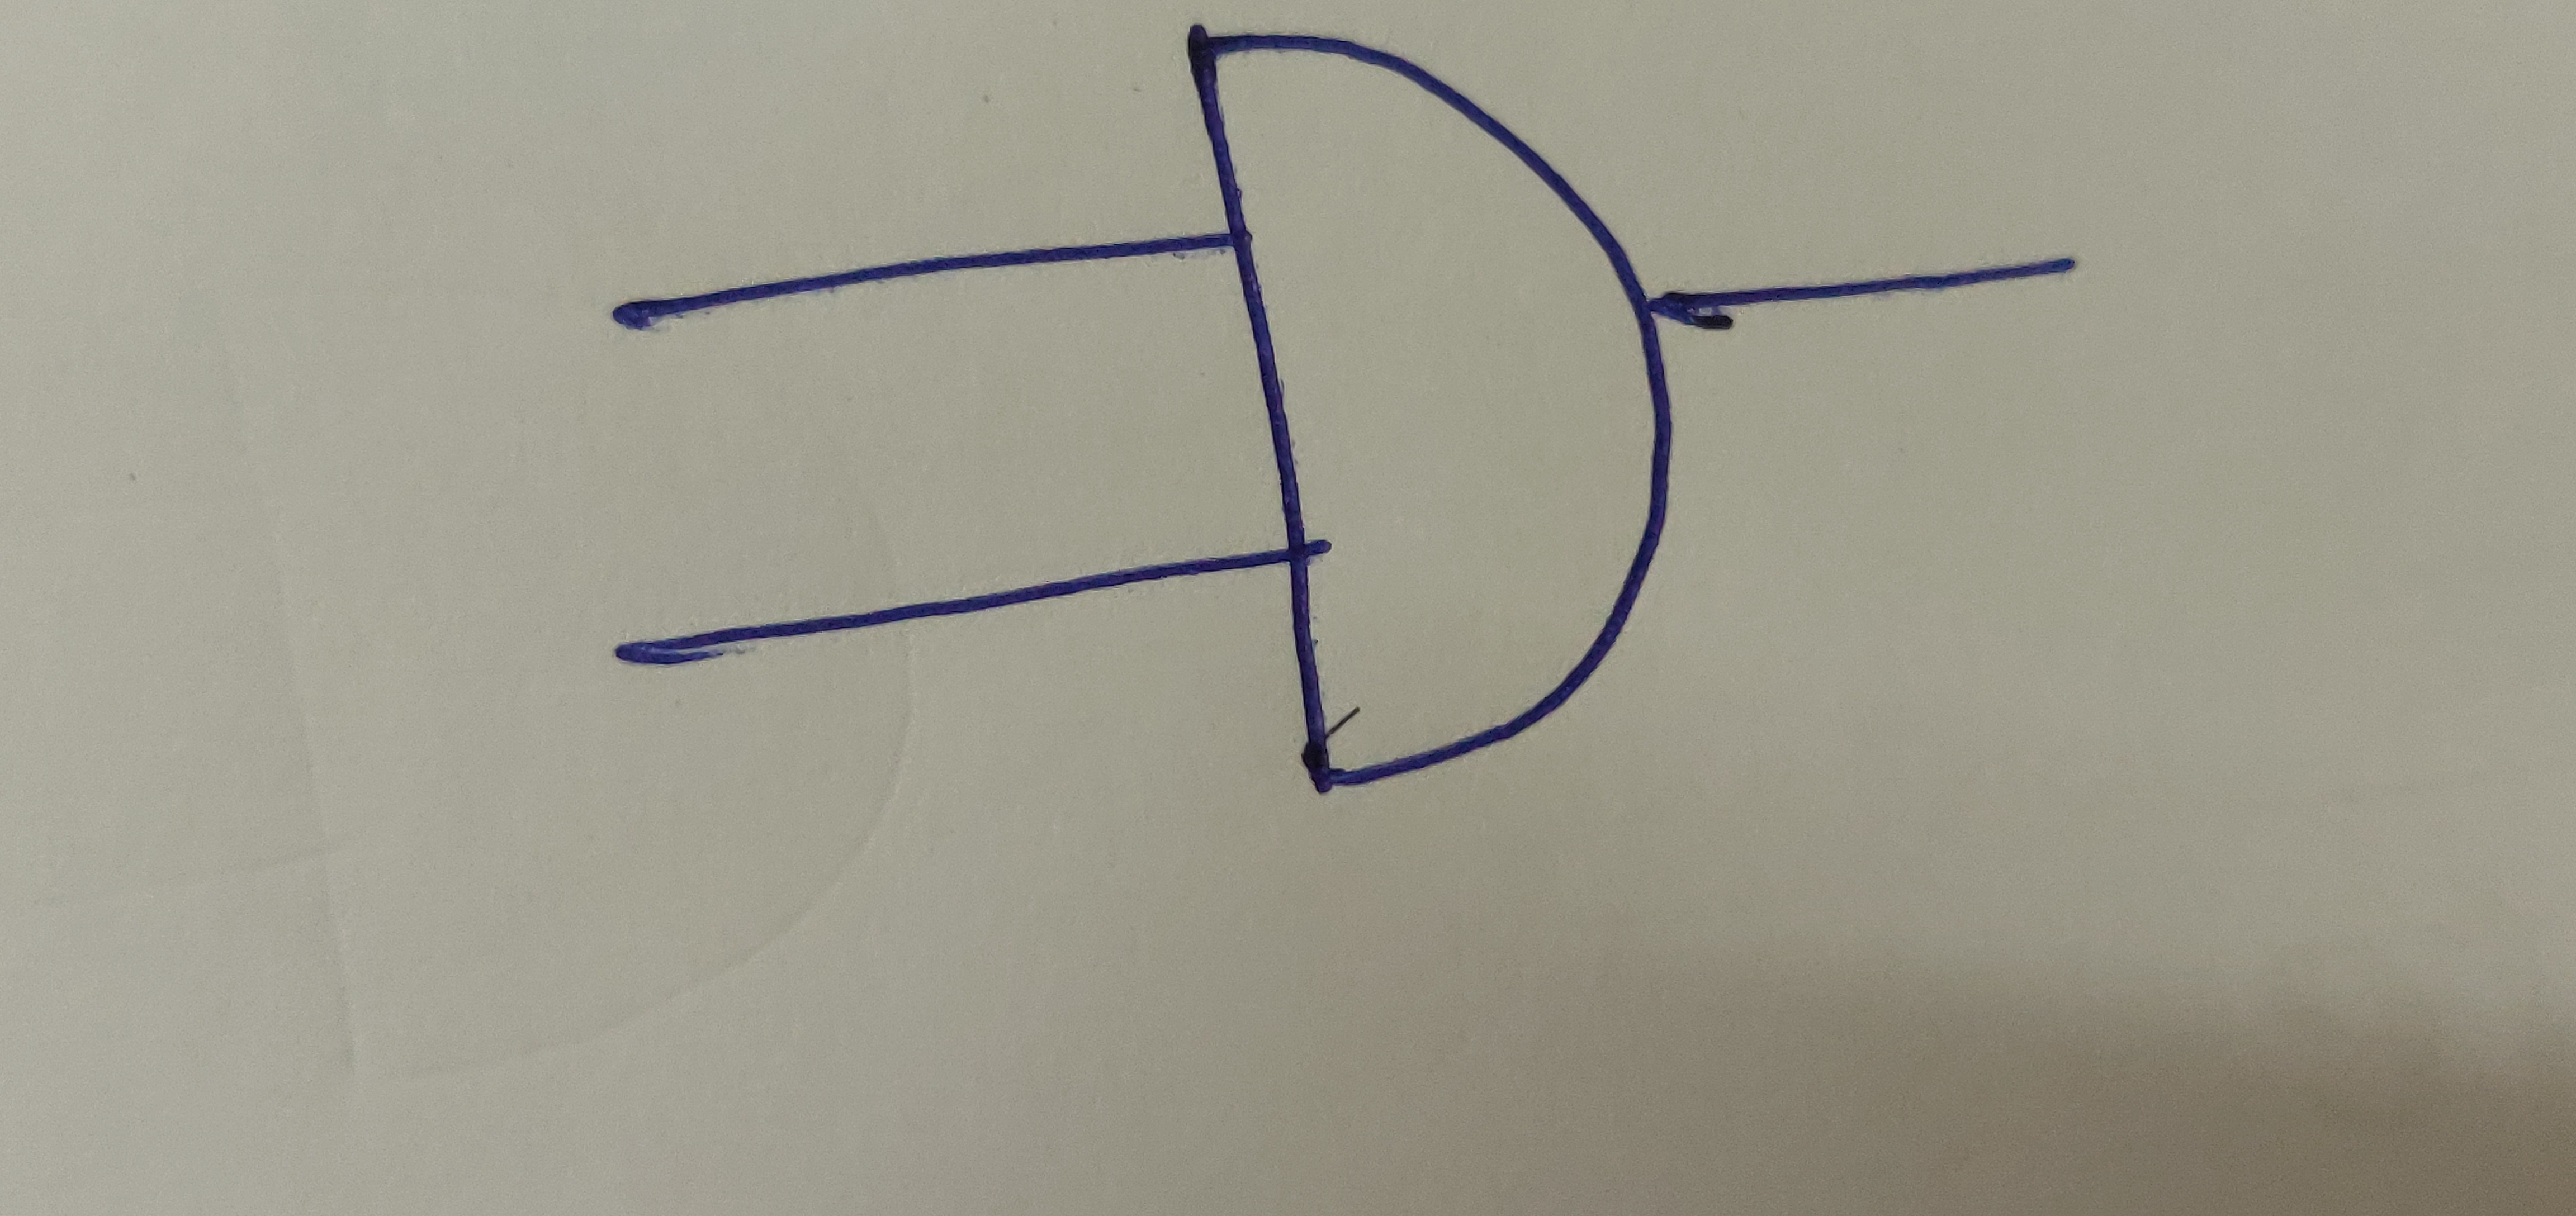and: (1185, 23, 1677, 795)
